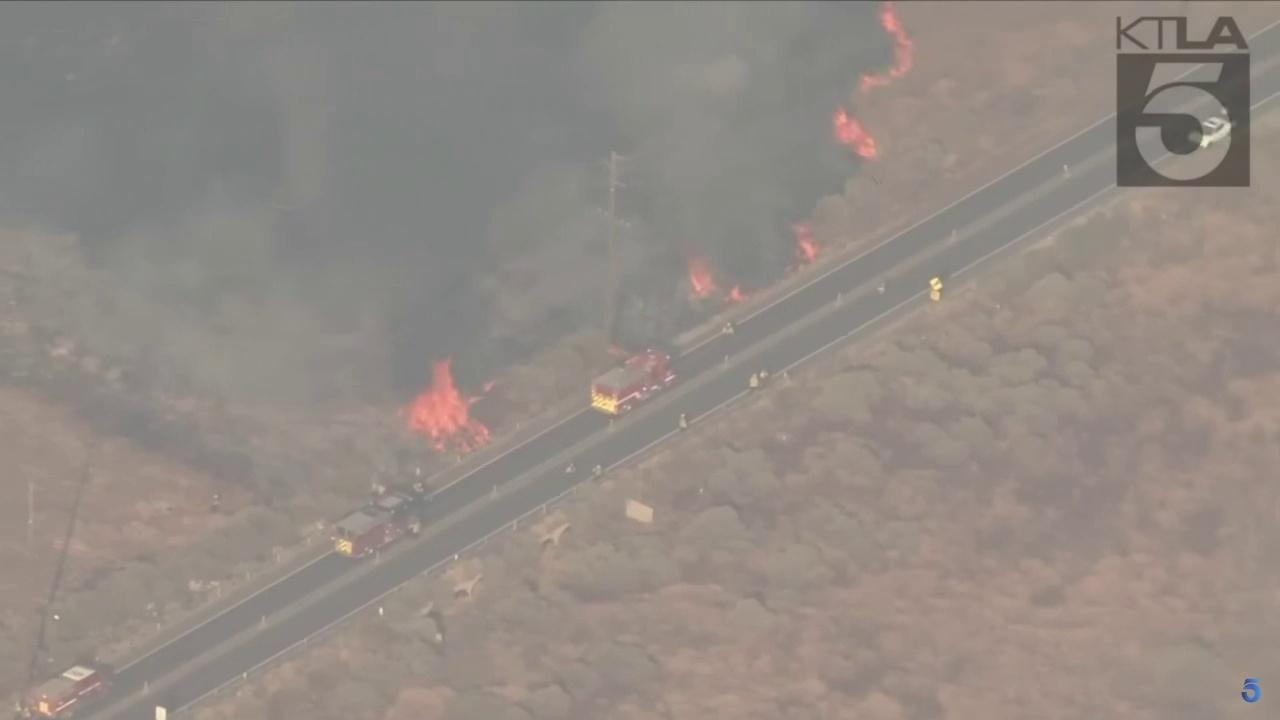fire: (396, 356, 502, 459), (857, 0, 916, 93), (829, 105, 876, 158), (790, 220, 822, 264), (683, 259, 715, 295), (728, 284, 750, 304)
smoke: (0, 0, 898, 404)
